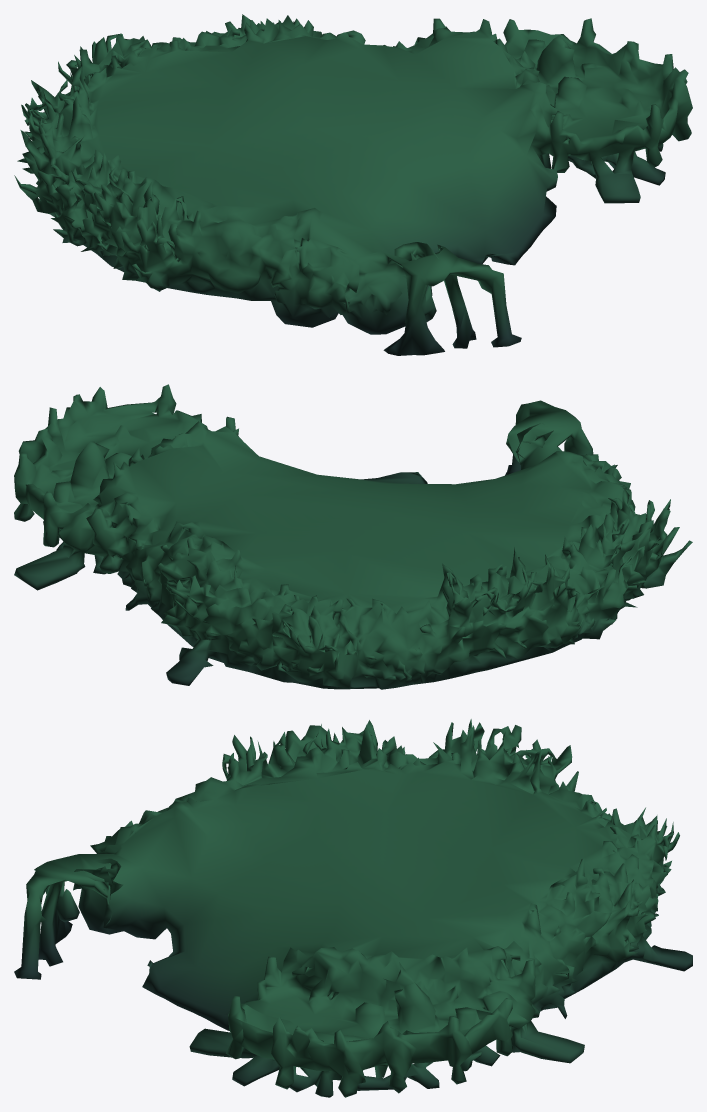
The model's file is sacred-garden.glb.
3 renders of one model, top to bottom at view 1: azimuth 30°, elevation 25°; view 2: azimuth 150°, elevation 25°; view 3: azimuth 270°, elevation 25°, orthographic. The views are drawn at different scales.
Parts seen in each view (by area): view 1: sacred-garden; view 2: sacred-garden; view 3: sacred-garden.
Part boxes in pixels (<box>): sacred-garden: <box>14,14,692,355</box>; sacred-garden: <box>14,384,692,689</box>; sacred-garden: <box>14,719,692,1097</box>.
Size of the model in its own units: 0.038 by 0.00862 by 0.0361.
